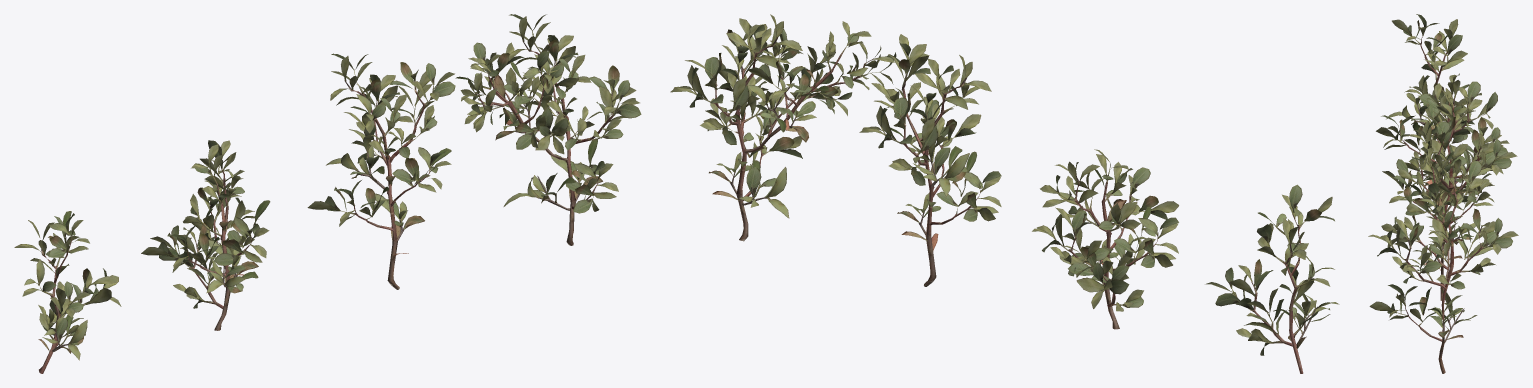
Rendered from shrub_04.glb.
3 views of the same model, side by side, from view 1: azimuth 30°, elevation 25°; view 2: azimuth 150°, elevation 25°; view 3: azimuth 270°, elevation 25° (orthographic). The views are drawn at different scales.
Parts seen in each view (by area): view 1: shrub_04; view 2: shrub_04; view 3: shrub_04.
Part boxes in pixels (x1=…): shrub_04: x1=14, y1=14, x2=641, y2=373; shrub_04: x1=670, y1=14, x2=1339, y2=373; shrub_04: x1=1368, y1=14, x2=1518, y2=373.
Bounding box in the file's own units: 0.5837 × 0.2192 × 0.1461.
1 material, 1 textured.
